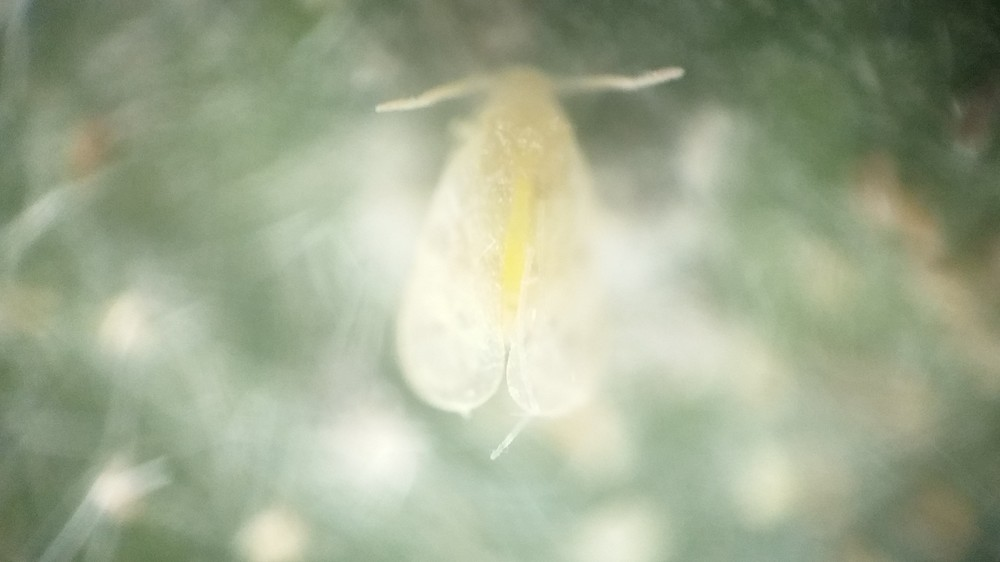Mosca Blanca: (362, 54, 698, 440)
